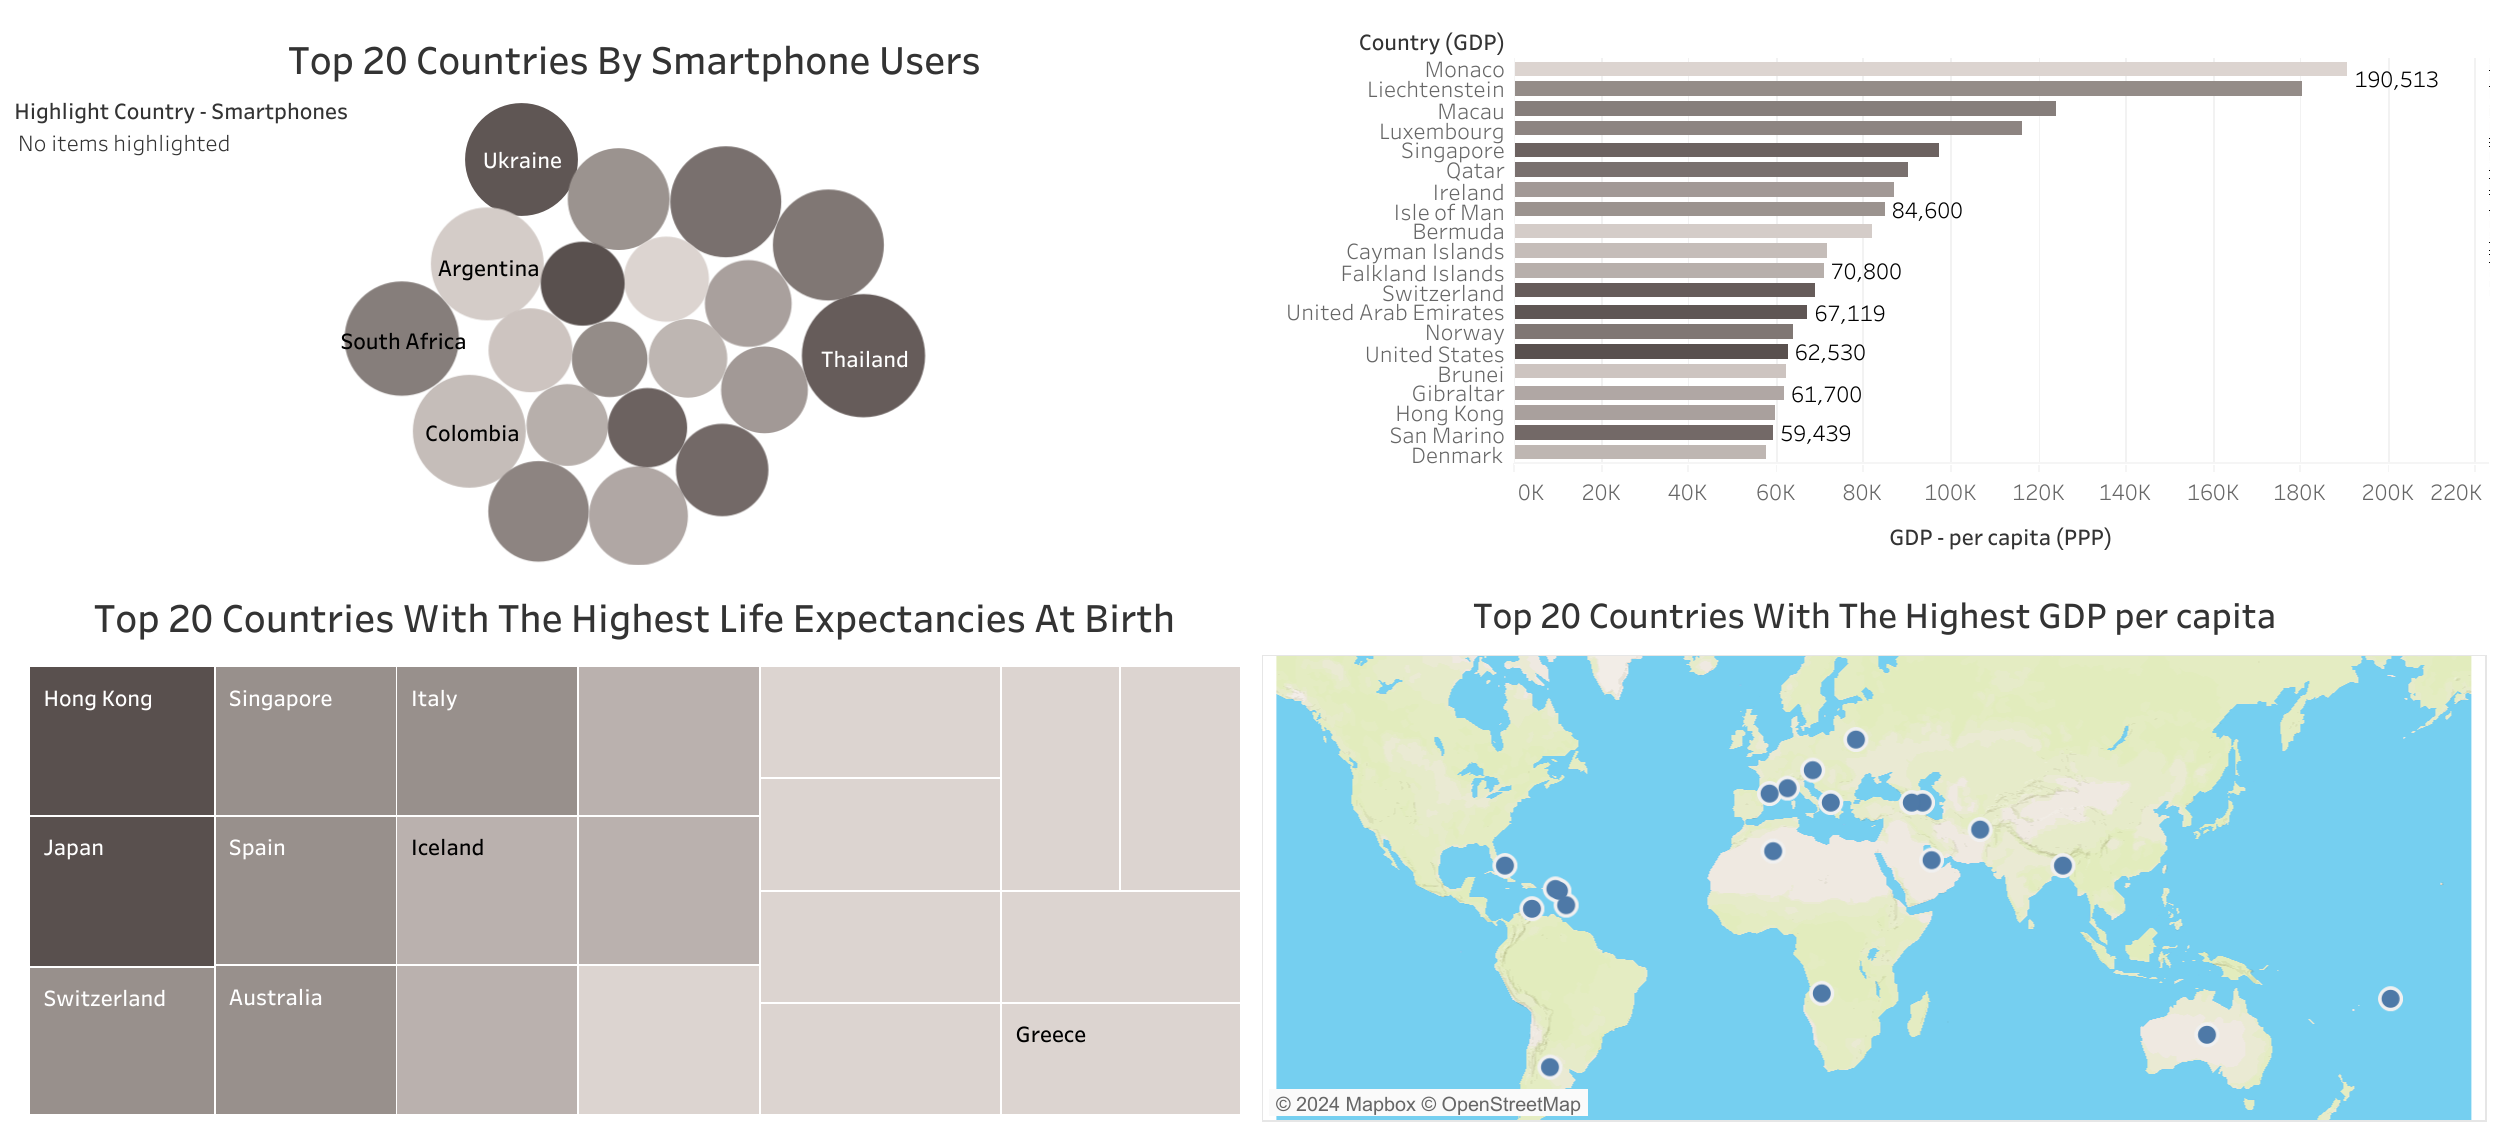

What the dashboard file says about the page in this screenshot:
{"tool":"tableau","page":{"name":"Wealth Of Nations top 20 Dashboard","canvas":[1000,1000],"units":"permille","ordinal":0},"visuals":[{"type":"worksheet","title":"Sheet 4","mark":"Circle","box":[7.7,13.1,492.3,486.9]},{"type":"worksheet","title":"Sheet 5","mark":"Automatic","rows":["Country (GDP)"],"cols":["GDP - per capita (PPP)"],"box":[500,13.1,492.3,486.9]},{"type":"highlighter","title":"Sheet 4","param":"[federated.09vxecn0nns86s18itd731j45th6].[none:Country (Smartphones):nk]","box":[5.6,79.8,149.7,78.3]},{"type":"worksheet","title":"Sheet 3","mark":"Automatic","box":[7.7,500,492.3,486.9]},{"type":"worksheet","title":"Sheet 1","mark":"Automatic","box":[500,500,492.3,486.9]}]}

Visuals, with their boxes on the dashboard's canvas, which has no fixed pixel size, in thousandths of its width and height (x1, y1, x2, y2). These are canvas units, not pixel positions in the 2507x1143 screenshot, which may show the page scaled, cropped or inside an application window:
"Sheet 4" worksheet (Circle marks): box=[8, 13, 500, 500]
"Sheet 5" worksheet: box=[500, 13, 992, 500]
"Sheet 4" highlighter: box=[6, 80, 155, 158]
"Sheet 3" worksheet: box=[8, 500, 500, 987]
"Sheet 1" worksheet: box=[500, 500, 992, 987]
